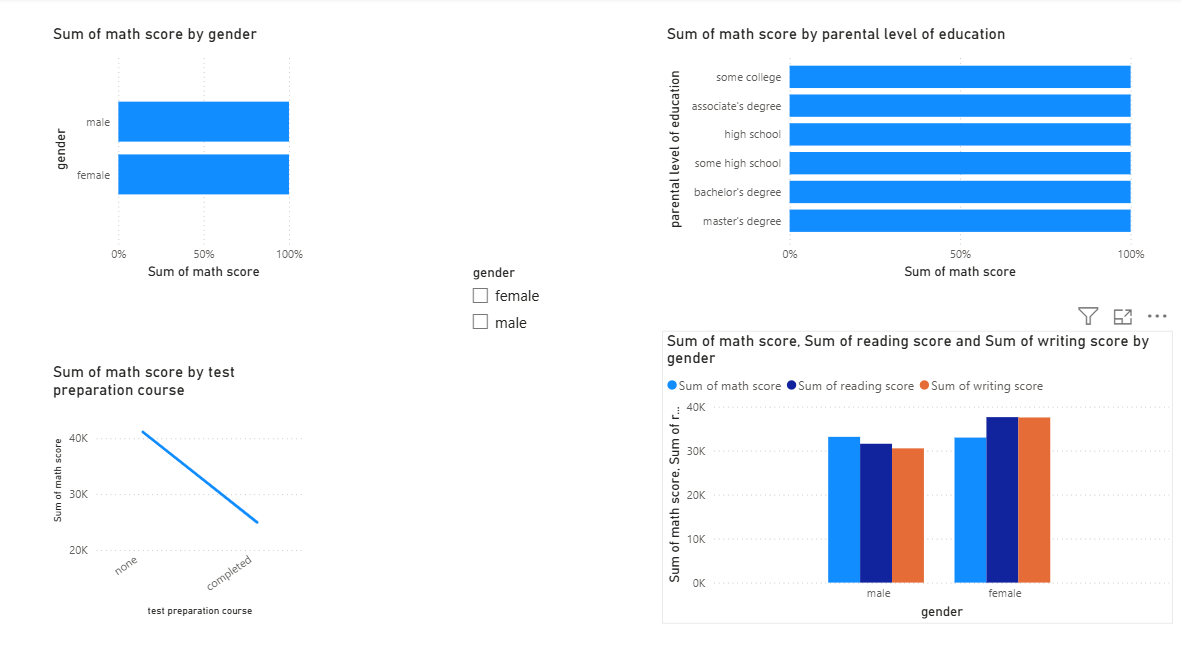

What the dashboard file says about the page in this screenshot:
{"tool":"powerbi","page":{"name":"Page 1","canvas":[1280,720],"ordinal":0},"visuals":[{"type":"hundredPercentStackedBarChart","fields":{"Category":["StudentsPerformance.gender"],"Y":["Sum(StudentsPerformance.math score)"]},"box":[54.8,29.6,279.7,279.7],"z":0},{"type":"lineChart","fields":{"Category":["StudentsPerformance.test preparation course"],"Y":["Sum(StudentsPerformance.math score)"]},"box":[54.8,393.7,279.7,279.7],"z":1000},{"type":"hundredPercentStackedBarChart","fields":{"Category":["StudentsPerformance.parental level of education"],"Y":["Sum(StudentsPerformance.math score)"]},"box":[716.4,29.6,525.4,279.7],"z":2000},{"type":"clusteredColumnChart","fields":{"Category":["StudentsPerformance.gender"],"Y":["Sum(StudentsPerformance.math score)","Sum(StudentsPerformance.reading score)","Sum(StudentsPerformance.writing score)"]},"box":[716.4,359.7,552.1,315.3],"z":3000},{"type":"slicer","fields":{"Values":["StudentsPerformance.gender"]},"box":[500.3,282.7,139.1,111],"z":3001}]}

Visuals, with their boxes in screenshot pixels (x1, y1, x2, y2), scaled from the page's 1280x720 canvas onto the 1181x656 screenshot:
hundredPercentStackedBarChart - StudentsPerformance.gender x Sum(StudentsPerformance.math score): {"x1": 51, "y1": 27, "x2": 309, "y2": 282}
lineChart - StudentsPerformance.test preparation course x Sum(StudentsPerformance.math score): {"x1": 51, "y1": 359, "x2": 309, "y2": 614}
hundredPercentStackedBarChart - StudentsPerformance.parental level of education x Sum(StudentsPerformance.math score): {"x1": 661, "y1": 27, "x2": 1146, "y2": 282}
clusteredColumnChart - StudentsPerformance.gender x Sum(StudentsPerformance.math score): {"x1": 661, "y1": 328, "x2": 1170, "y2": 615}
slicer - StudentsPerformance.gender: {"x1": 462, "y1": 258, "x2": 590, "y2": 359}
